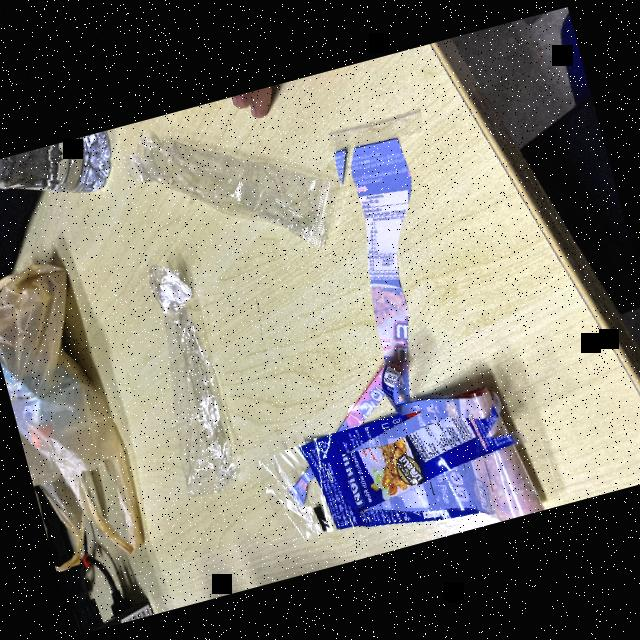scrap_plastic: (250, 303, 570, 573), (106, 248, 268, 522), (140, 84, 340, 276)
